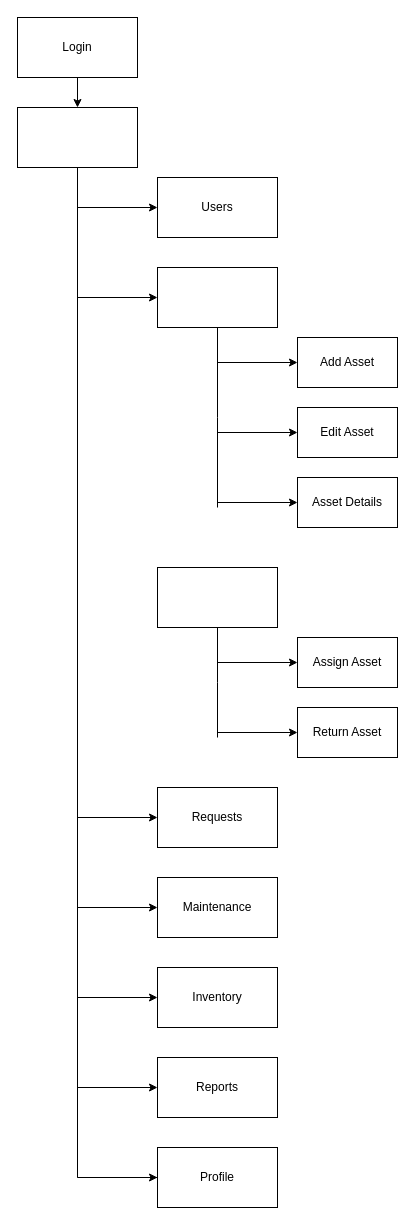
Some shapes in this 415 by 1225 pixel diagram are drawn without their labels. Each missing label, with the centre of its shape:
Assets: pixel 217 297
Assignments: pixel 217 597
Dashboard: pixel 77 137
